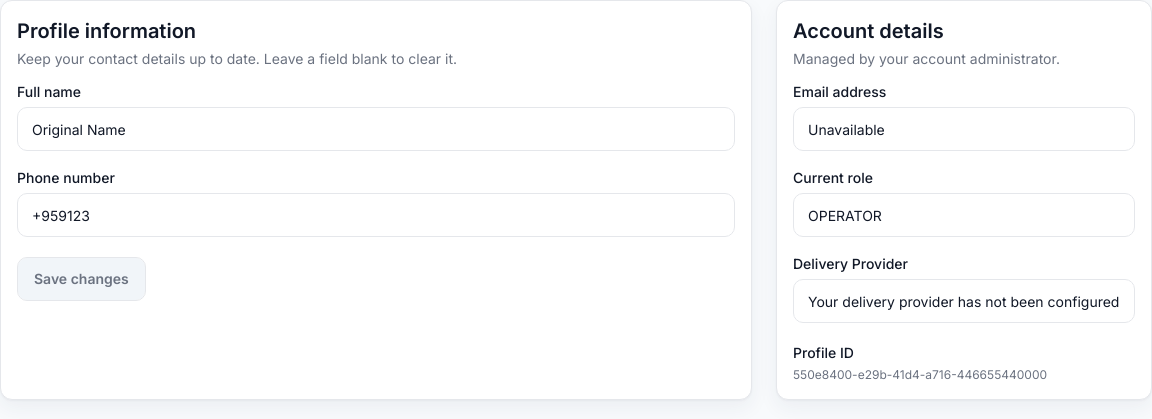
loads profile, saves editable fields only and updates shared UI identity
This screenshot has width=1152, height=419.
Replace the text in the field labelled "Full name" with "New Name" at {"x": 376, "y": 129}, box [17, 107, 735, 151]
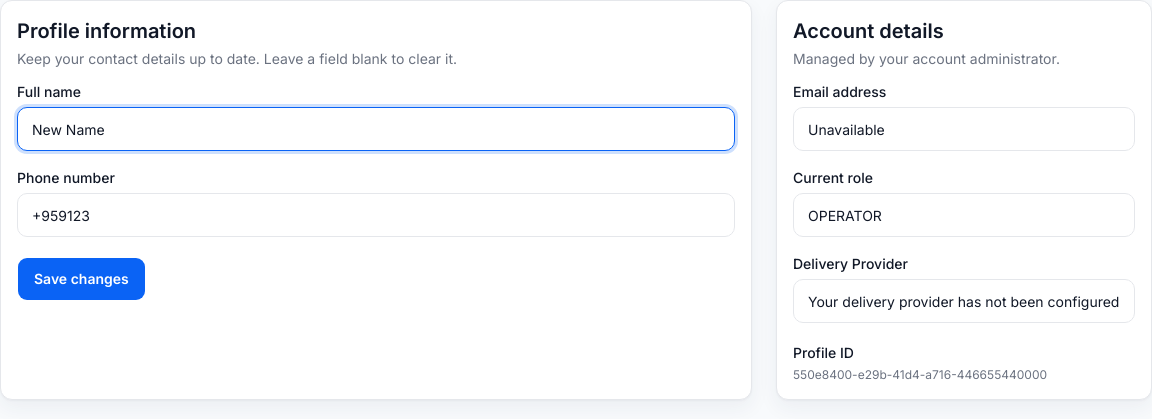
Replace the text in the field labelled "Phone number" with "123456" at {"x": 376, "y": 215}, box [17, 193, 735, 237]
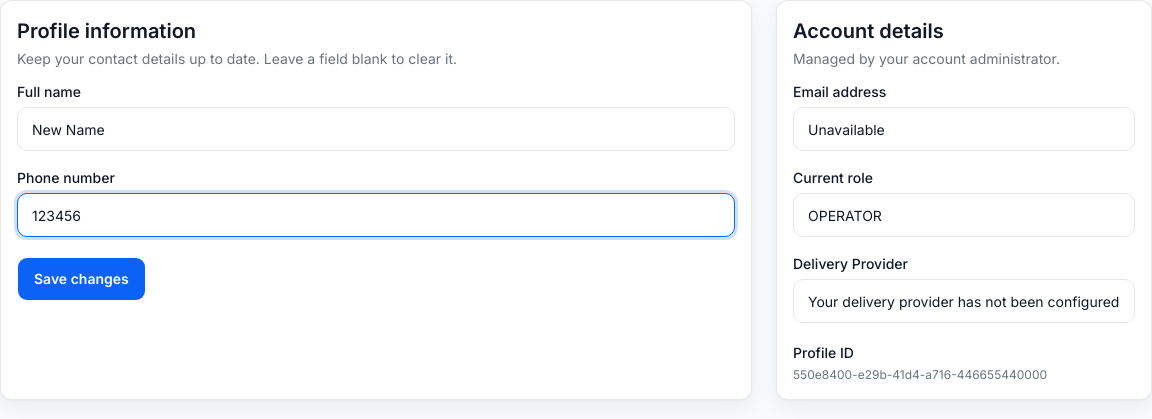
Click the button "Save changes" at {"x": 81, "y": 279}, box [17, 257, 146, 301]
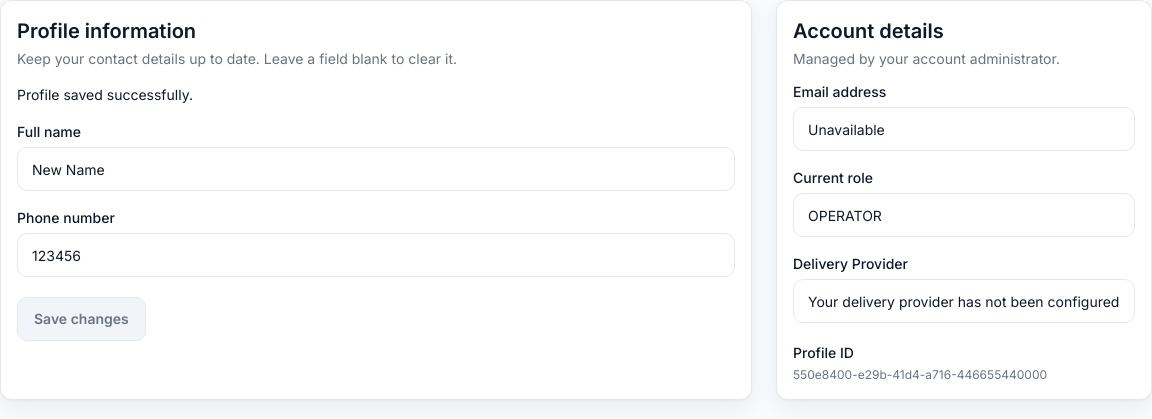
Check: the text "Profile saved successfully." is shown, box [17, 86, 193, 103]
